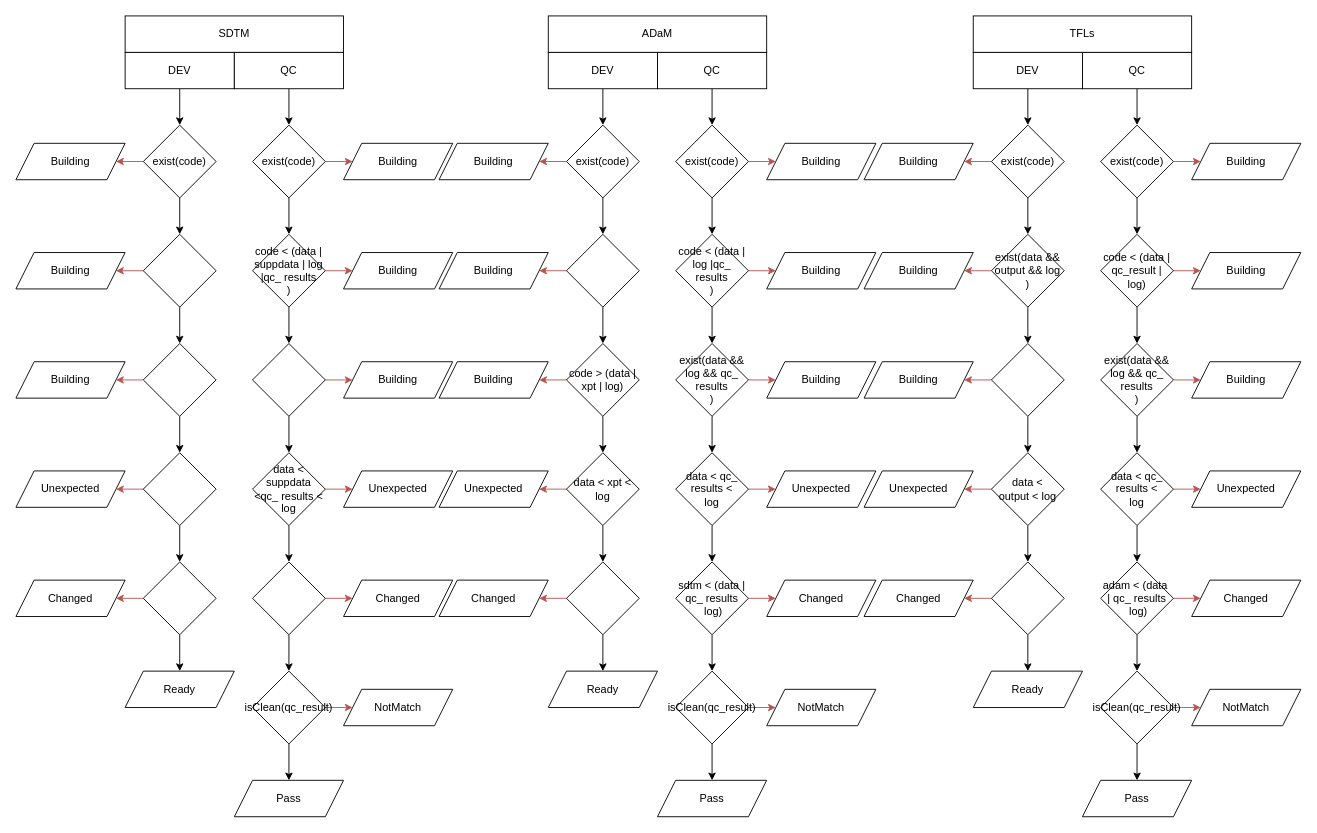
The diagram is 1317 pixels wide and 833 high, and some of its shapes have lost their labels. Here are the shapes that lost their labels. From the top down, the centre of each, then its label:
the point at 179,270: exist(data && xpt && suppdata && suppxpt && log )
the point at 602,270: exist(data && xpt && log )
the point at 179,379: code < (data | xpt | suppdata | suppxpt | log)
the point at 288,379: exist(data && suppdata && log && qc_ results )
the point at 1027,379: code > (data | output | log)
the point at 179,489: data < xpt < suppdata < suppxpt < log
the point at 179,598: raw < (data | xpt | suppdata | suppxpt | log)
the point at 288,598: raw < (data | suppdata | qc_ results log)
the point at 602,598: sdtm > (data | xpt | log)
the point at 1027,598: adam > (data | output | log)
